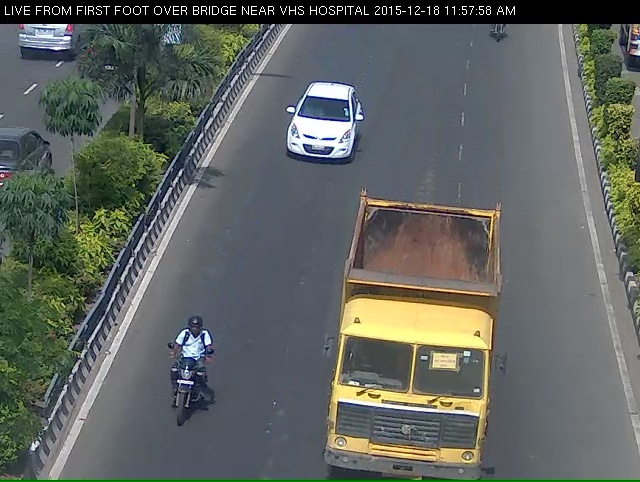Bus: (309, 215, 506, 479)
Car: (272, 86, 352, 186)
Person: (129, 357, 203, 476), (483, 21, 517, 58)
